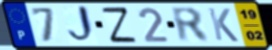2: (138, 6, 171, 43)
7: (29, 6, 57, 43)
J: (66, 4, 98, 46)
K: (206, 7, 241, 43)
R: (169, 6, 213, 44)
Z: (99, 6, 139, 44)
